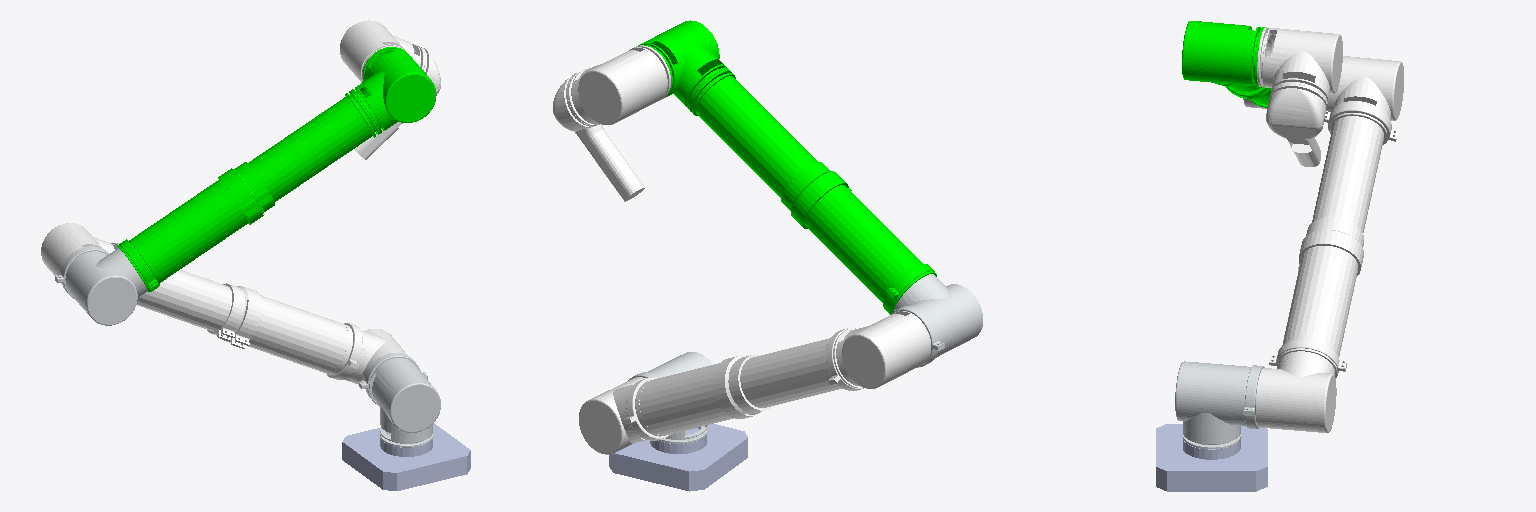
URDF robot description (inhabit_leader_arm):
<?xml version="1.0" encoding="utf-8"?>
<!-- This URDF was automatically created by SolidWorks to URDF Exporter! Originally created by Stephen Brawner (brawner@gmail.com) 
     Commit Version: 1.6.0-4-g7f85cfe  Build Version: 1.6.7995.38578
     For more information, please see http://wiki.ros.org/sw_urdf_exporter -->
<robot
  name="inhabit_leader_arm">
  <link
    name="base_link">
    <inertial>
      <origin
        xyz="0.0635000000000001 0.0508000000000002 0.0145602982623052"
        rpy="0 0 0" />
      <mass
        value="0.444932236876943" />
      <inertia
        ixx="0.00057001210884507"
        ixy="-3.3881317890172E-19"
        ixz="-3.0071889810482E-20"
        iyy="0.00057001210884507"
        iyz="-4.0922619036075E-21"
        izz="0.0010672300341226" />
    </inertial>
    <visual>
      <origin
        xyz="0 0 0"
        rpy="0 0 0" />
      <geometry>
        <mesh
          filename="meshes/base_link.STL" />
      </geometry>
      <material
        name="">
        <color
          rgba="0.792156862745098 0.819607843137255 0.933333333333333 1" />
      </material>
    </visual>
    <collision>
      <origin
        xyz="0 0 0"
        rpy="0 0 0" />
      <geometry>
        <mesh
          filename="meshes/base_link.STL" />
      </geometry>
    </collision>
  </link>
  <link
    name="Link_1">
    <inertial>
      <origin
        xyz="0.00228231671557211 0.00808122977399695 0.0447674260275902"
        rpy="0 0 0" />
      <mass
        value="0.169812442206616" />
      <inertia
        ixx="0.000188237946595165"
        ixy="-4.62577098959089E-06"
        ixz="-5.29882888956416E-07"
        iyy="0.000176177987681274"
        iyz="-7.55857576856631E-06"
        izz="0.000165663144537434" />
    </inertial>
    <visual>
      <origin
        xyz="0 0 0"
        rpy="0 0 0" />
      <geometry>
        <mesh
          filename="meshes/Link_1.STL" />
      </geometry>
      <material
        name="">
        <color
          rgba="0.898039215686275 0.917647058823529 0.929411764705882 1" />
      </material>
    </visual>
    <collision>
      <origin
        xyz="0 0 0"
        rpy="0 0 0" />
      <geometry>
        <mesh
          filename="meshes/Link_1.STL" />
      </geometry>
    </collision>
  </link>
  <joint
    name="Joint_1"
    type="revolute">
    <origin
      xyz="0.0635 0.0508 0.0381"
      rpy="0 0 0" />
    <parent
      link="base_link" />
    <child
      link="Link_1" />
    <axis
      xyz="0 0 -1" />
    <limit
      lower="-2.62"
      upper="2.62"
      effort="60"
      velocity="12" />
  </joint>
  <link
    name="Link_2">
    <inertial>
      <origin
        xyz="0.0035946638890767 -0.0485295978182783 0.00736184480547464"
        rpy="0 0 0" />
      <mass
        value="0.171073100445326" />
      <inertia
        ixx="0.000177932036699603"
        ixy="5.49424397477573E-06"
        ixz="-1.16524826198347E-05"
        iyy="0.000164510780949965"
        iyz="3.94297688876875E-06"
        izz="0.000190548785844975" />
    </inertial>
    <visual>
      <origin
        xyz="0 0 0"
        rpy="0 0 0" />
      <geometry>
        <mesh
          filename="meshes/Link_2.STL" />
      </geometry>
      <material
        name="">
        <color
          rgba="1 1 1 1" />
      </material>
    </visual>
    <collision>
      <origin
        xyz="0 0 0"
        rpy="0 0 0" />
      <geometry>
        <mesh
          filename="meshes/Link_2.STL" />
      </geometry>
    </collision>
  </link>
  <joint
    name="Joint_2"
    type="revolute">
    <origin
      xyz="0.0097596 0.050057 0.0547"
      rpy="0 0 3.1416" />
    <parent
      link="Link_1" />
    <child
      link="Link_2" />
    <axis
      xyz="0.19136 0.98152 0" />
    <limit
      lower="-2.62"
      upper="2.62"
      effort="60"
      velocity="12" />
  </joint>
  <link
    name="Link_3">
    <inertial>
      <origin
        xyz="-0.217258590354028 0.0406617474639395 0.113311658083823"
        rpy="0 0 0" />
      <mass
        value="0.428473000338791" />
      <inertia
        ixx="0.000488055214485812"
        ixy="5.05358924192208E-05"
        ixz="0.000169066021214644"
        iyy="0.000773229608597147"
        iyz="-2.97098945349661E-05"
        izz="0.000722438458073124" />
    </inertial>
    <visual>
      <origin
        xyz="0 0 0"
        rpy="0 0 0" />
      <geometry>
        <mesh
          filename="meshes/Link_3.STL" />
      </geometry>
      <material
        name="">
        <color
          rgba="1 1 1 1" />
      </material>
    </visual>
    <collision>
      <origin
        xyz="0 0 0"
        rpy="0 0 0" />
      <geometry>
        <mesh
          filename="meshes/Link_3.STL" />
      </geometry>
    </collision>
  </link>
  <joint
    name="Joint_3"
    type="revolute">
    <origin
      xyz="0.03799 -0.059367 0.025009"
      rpy="0 0 3.1416" />
    <parent
      link="Link_2" />
    <child
      link="Link_3" />
    <axis
      xyz="-0.87293 0.17019 0.45719" />
    <limit
      lower="-2.62"
      upper="2.62"
      effort="60"
      velocity="12" />
  </joint>
  <link
    name="Link_4">
    <inertial>
      <origin
        xyz="0.000451069081032873 -0.0433588759635983 0.00603277883752967"
        rpy="0 0 0" />
      <mass
        value="0.169814856501504" />
      <inertia
        ixx="0.000169409789119703"
        ixy="8.38966722816788E-06"
        ixz="-1.29687899342188E-05"
        iyy="0.000172006098987697"
        iyz="4.49157049359492E-06"
        izz="0.000188665130740115" />
    </inertial>
    <visual>
      <origin
        xyz="0 0 0"
        rpy="0 0 0" />
      <geometry>
        <mesh
          filename="meshes/Link_4.STL" />
      </geometry>
      <material
        name="">
        <color
          rgba="0.898039215686275 0.917647058823529 0.929411764705882 1" />
      </material>
    </visual>
    <collision>
      <origin
        xyz="0 0 0"
        rpy="0 0 0" />
      <geometry>
        <mesh
          filename="meshes/Link_4.STL" />
      </geometry>
    </collision>
  </link>
  <joint
    name="Joint_4"
    type="revolute">
    <origin
      xyz="-0.35651 0.017557 0.18264"
      rpy="0 0 0" />
    <parent
      link="Link_3" />
    <child
      link="Link_4" />
    <axis
      xyz="0.18333 0.98292 -0.015866" />
    <limit
      lower="-2.62"
      upper="2.62"
      effort="60"
      velocity="12" />
  </joint>
  <link
    name="Link_5">
    <inertial>
      <origin
        xyz="0.20444984433962 -0.0347212418942573 0.11248569849763"
        rpy="0 0 0" />
      <mass
        value="0.428473051099729" />
      <inertia
        ixx="0.000494164603926325"
        ixy="4.4212094389519E-05"
        ixz="-0.000174981284561334"
        iyy="0.000774786166649827"
        iyz="2.76114402173128E-05"
        izz="0.000714772576826583" />
    </inertial>
    <visual>
      <origin
        xyz="0 0 0"
        rpy="0 0 0" />
      <geometry>
        <mesh
          filename="meshes/Link_5.STL" />
      </geometry>
      <material
        name="">
        <color
          rgba="0 1 0 1" />
      </material>
    </visual>
    <collision>
      <origin
        xyz="0 0 0"
        rpy="0 0 0" />
      <geometry>
        <mesh
          filename="meshes/Link_5.STL" />
      </geometry>
    </collision>
  </link>
  <joint
    name="Joint_5"
    type="continuous">
    <origin
      xyz="0.037958 -0.058531 0.026952"
      rpy="0 0 0" />
    <parent
      link="Link_4" />
    <child
      link="Link_5" />
    <axis
      xyz="0.86487 -0.15359 0.47793" />
    <limit
      lower="-2.62"
      upper="2.62"
      effort="60"
      velocity="12" />
  </joint>
  <link
    name="Link_6">
    <inertial>
      <origin
        xyz="0.0173043234501966 0.0440237628543243 -0.00682868653187105"
        rpy="0 0 0" />
      <mass
        value="0.155559791847929" />
      <inertia
        ixx="0.000162753056336907"
        ixy="-6.98763691950458E-06"
        ixz="1.4231861867833E-05"
        iyy="0.000167102670501732"
        iyz="-3.29774617427274E-07"
        izz="0.000178786750083824" />
    </inertial>
    <visual>
      <origin
        xyz="0 0 0"
        rpy="0 0 0" />
      <geometry>
        <mesh
          filename="meshes/Link_6.STL" />
      </geometry>
      <material
        name="">
        <color
          rgba="1 1 1 1" />
      </material>
    </visual>
    <collision>
      <origin
        xyz="0 0 0"
        rpy="0 0 0" />
      <geometry>
        <mesh
          filename="meshes/Link_6.STL" />
      </geometry>
    </collision>
  </link>
  <joint
    name="Joint_6"
    type="revolute">
    <origin
      xyz="0.35328 -0.010949 0.18932"
      rpy="0 0 0" />
    <parent
      link="Link_5" />
    <child
      link="Link_6" />
    <axis
      xyz="0.18273 0.98305 -0.014749" />
    <limit
      lower="-2.62"
      upper="2.62"
      effort="60"
      velocity="12" />
  </joint>
  <link
    name="Link_7">
    <inertial>
      <origin
        xyz="0.00248246386139395 -0.000553003184144529 -0.0324113196771803"
        rpy="0 0 0" />
      <mass
        value="0.14397861913358" />
      <inertia
        ixx="0.00019330789577387"
        ixy="1.47799511512036E-05"
        ixz="-0.00011755093957323"
        iyy="0.000268227413715966"
        iyz="2.24564104519006E-05"
        izz="0.000140552607041227" />
    </inertial>
    <visual>
      <origin
        xyz="0 0 0"
        rpy="0 0 0" />
      <geometry>
        <mesh
          filename="meshes/Link_7.STL" />
      </geometry>
      <material
        name="">
        <color
          rgba="1 1 1 1" />
      </material>
    </visual>
    <collision>
      <origin
        xyz="0 0 0"
        rpy="0 0 0" />
      <geometry>
        <mesh
          filename="meshes/Link_7.STL" />
      </geometry>
    </collision>
  </link>
  <joint
    name="Joint_7"
    type="revolute">
    <origin
      xyz="0.050542 0.042103 -0.025407"
      rpy="0 0 0" />
    <parent
      link="Link_6" />
    <child
      link="Link_7" />
    <axis
      xyz="0.84646 -0.16494 -0.50626" />
    <limit
      lower="-2.62"
      upper="2.62"
      effort="60"
      velocity="12" />
  </joint>
</robot>

--- Facts derived from the render (not from the file) ---
Views: 3 orthographic renders of the robot side by side, from view 1: azimuth 30°, elevation 25°; view 2: azimuth 150°, elevation 25°; view 3: azimuth 270°, elevation 25°.
Robot: inhabit_leader_arm — 8 links, 7 joints (6 revolute, 1 continuous); root link base_link; default pose: every joint at zero.
Links seen in each view (by area): view 1: Link_5, Link_3, base_link, Link_1, Link_4, Link_6, Link_2, Link_7; view 2: Link_5, Link_3, base_link, Link_6, Link_4, Link_2, Link_7, Link_1; view 3: Link_3, Link_2, Link_1, base_link, Link_5, Link_6, Link_7.
Link boxes in pixels (<box>): Link_5: <box>118,47,436,292</box>; Link_3: <box>41,223,352,374</box>; base_link: <box>342,423,470,490</box>; Link_1: <box>359,353,440,447</box>; Link_4: <box>55,246,147,325</box>; Link_6: <box>340,20,424,82</box>; Link_2: <box>327,323,406,384</box>; Link_7: <box>354,47,440,159</box>; Link_5: <box>638,20,936,314</box>; Link_3: <box>635,311,930,436</box>; base_link: <box>609,424,747,491</box>; Link_6: <box>568,45,670,125</box>; Link_4: <box>891,274,982,367</box>; Link_2: <box>579,377,670,454</box>; Link_7: <box>553,71,644,201</box>; Link_1: <box>628,352,712,443</box>; Link_3: <box>1282,56,1403,356</box>; Link_2: <box>1255,340,1346,432</box>; Link_1: <box>1175,361,1264,448</box>; base_link: <box>1156,424,1267,491</box>; Link_5: <box>1182,21,1271,107</box>; Link_6: <box>1257,27,1342,103</box>; Link_7: <box>1266,84,1326,166</box>.
Size in the robot's own frame: 0.5319 by 0.2819 by 0.552 metres.
8 mesh visuals loaded from 8 distinct referenced files (8 binary STL).
